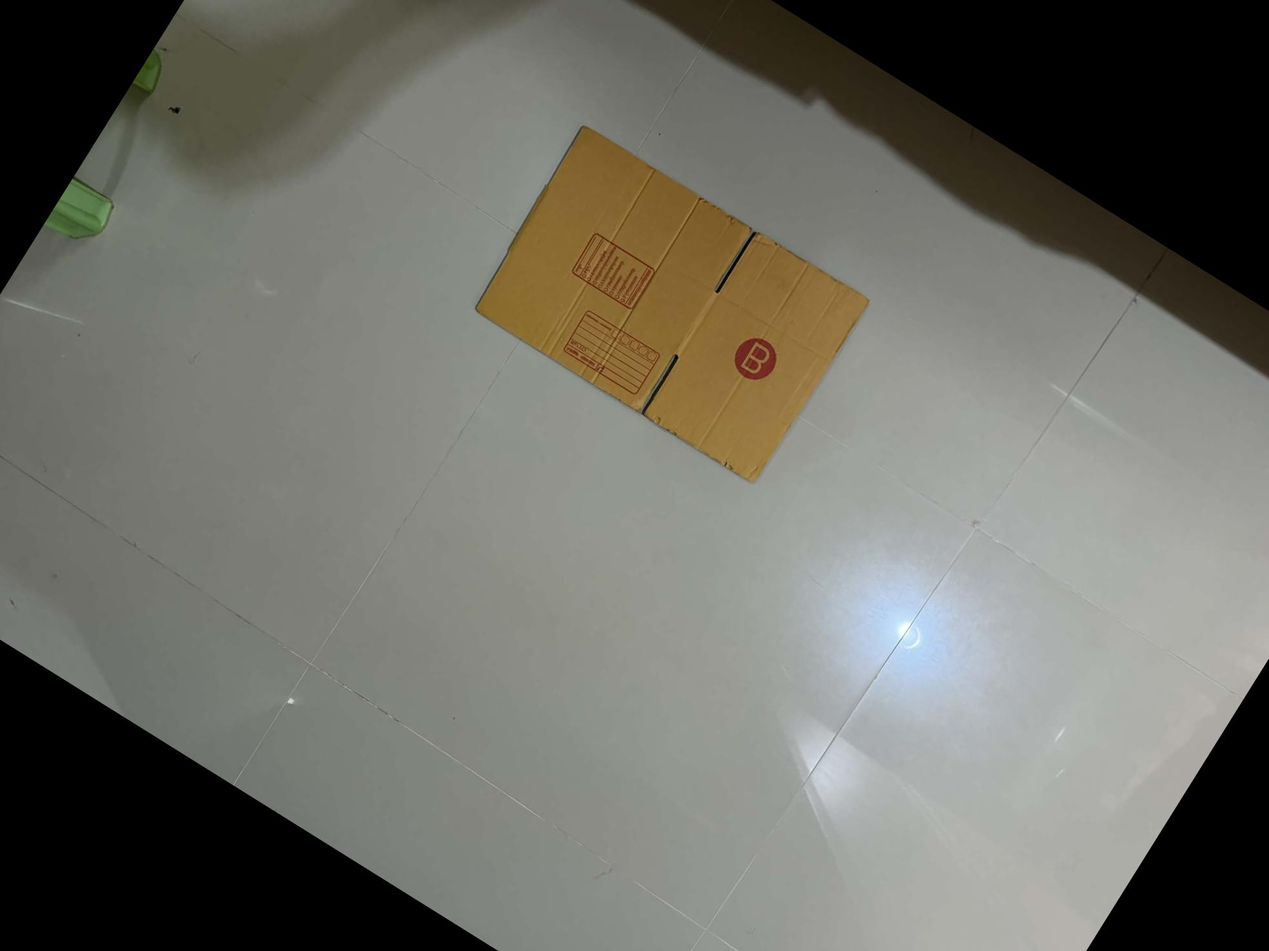box: (557, 304, 662, 398), (567, 231, 658, 315), (727, 328, 784, 386)
class0: (471, 120, 876, 488)
